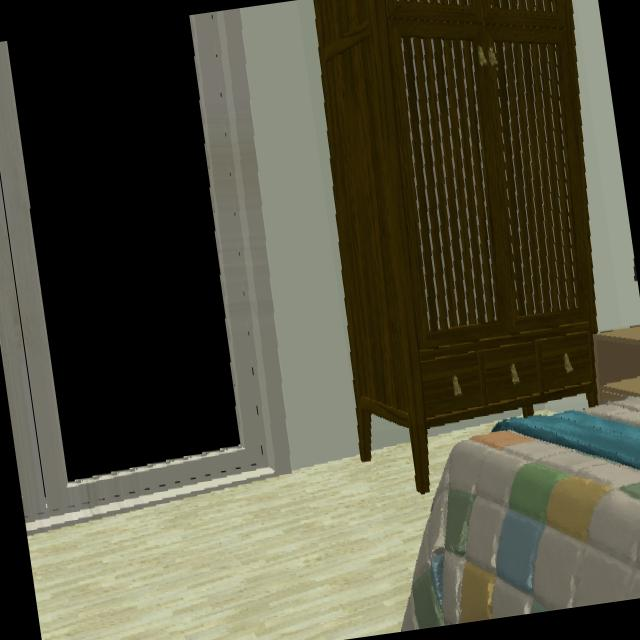bed: (400, 395, 640, 631)
lamp: (633, 256, 638, 283)
nighttable: (594, 325, 640, 400)
wardrobe: (312, 0, 602, 496)
